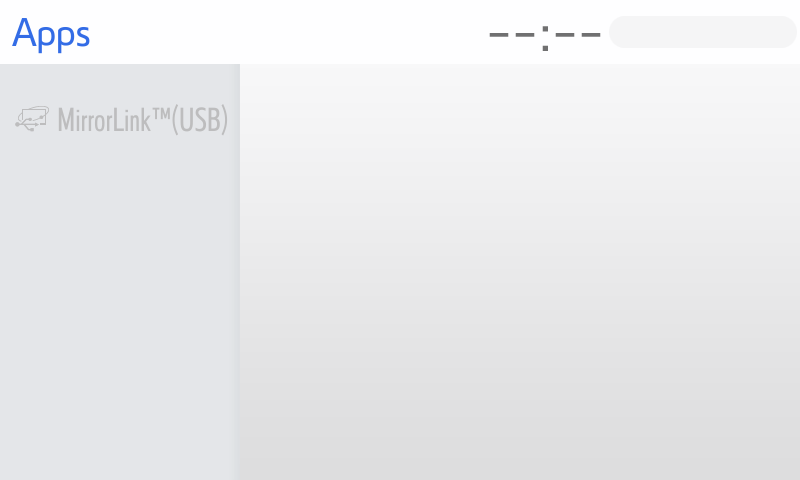untouchPart: (483, 10, 798, 53), (6, 91, 233, 138), (11, 14, 101, 53)
